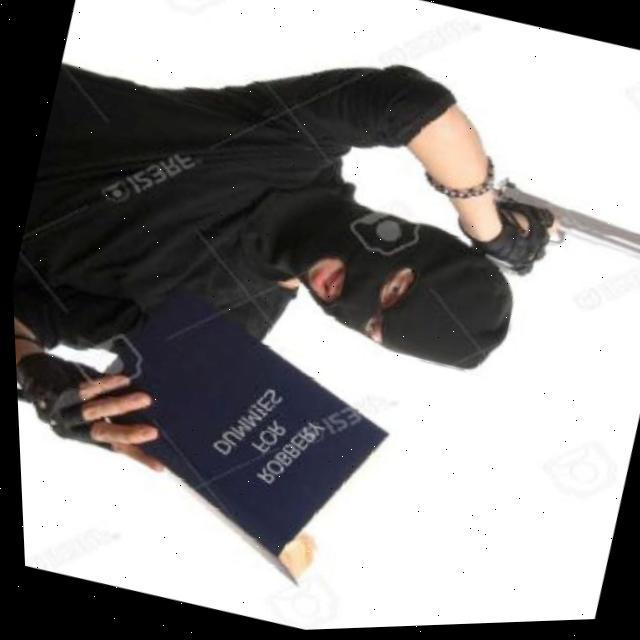gun: (461, 174, 640, 316)
